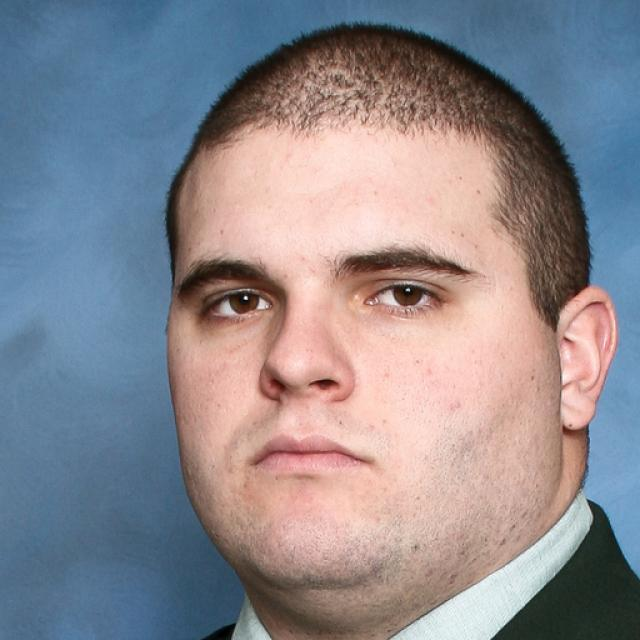neutral: (161, 94, 554, 590)
